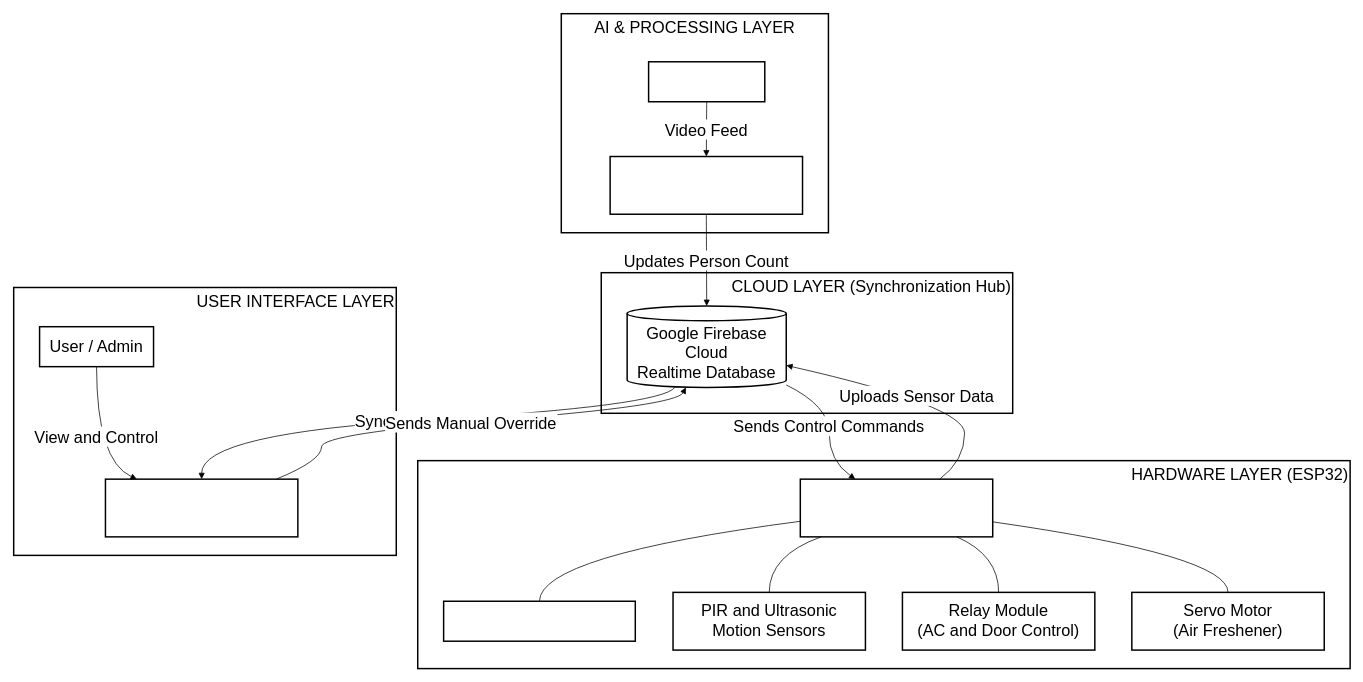
The diagram is 1363 pixels wide and 682 high, and some of its shapes have lost their labels. The centre of each missing label's shape, as x and y in pixels:
"AI Engine (Computer Vision / Python)" belongs at (x=706, y=185).
"Camera Input" belongs at (x=706, y=81).
"DHT22 Temp and Humidity" belongs at (x=539, y=621).
"Hardware Node (ESP32 Controller)" belongs at (x=896, y=507).
"Web Dashboard (React + Material UI)" belongs at (x=201, y=507).
